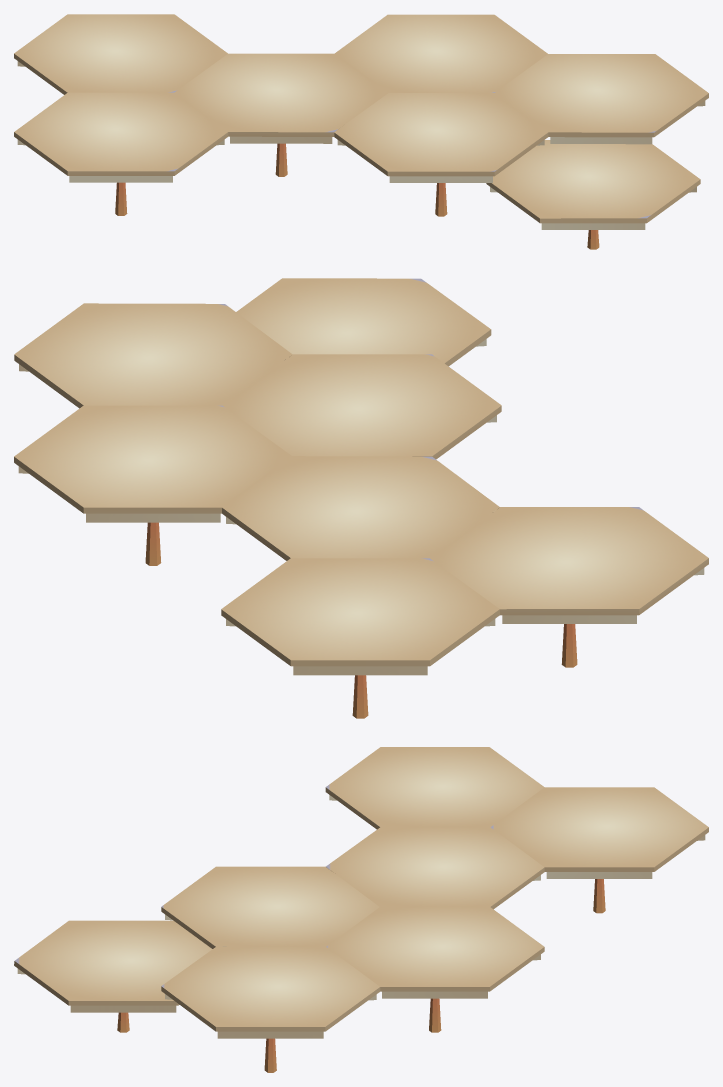
The model's file is SM_PublicBathroom_Canopy.fbx.
3 renders of one model, top to bottom at view 1: azimuth 30°, elevation 25°; view 2: azimuth 150°, elevation 25°; view 3: azimuth 270°, elevation 25°, orthographic. The views are drawn at different scales.
Visible parts, largest first — view 1: SM_PublicBathroom_Canopy; view 2: SM_PublicBathroom_Canopy; view 3: SM_PublicBathroom_Canopy.
Part boxes in pixels (left/top/right/bottom): SM_PublicBathroom_Canopy: left=14, top=14, right=708, bottom=249; SM_PublicBathroom_Canopy: left=14, top=278, right=708, bottom=718; SM_PublicBathroom_Canopy: left=14, top=747, right=708, bottom=1072.
Bounding box in the file's own units: 51.26 × 53.81 × 7.15.
